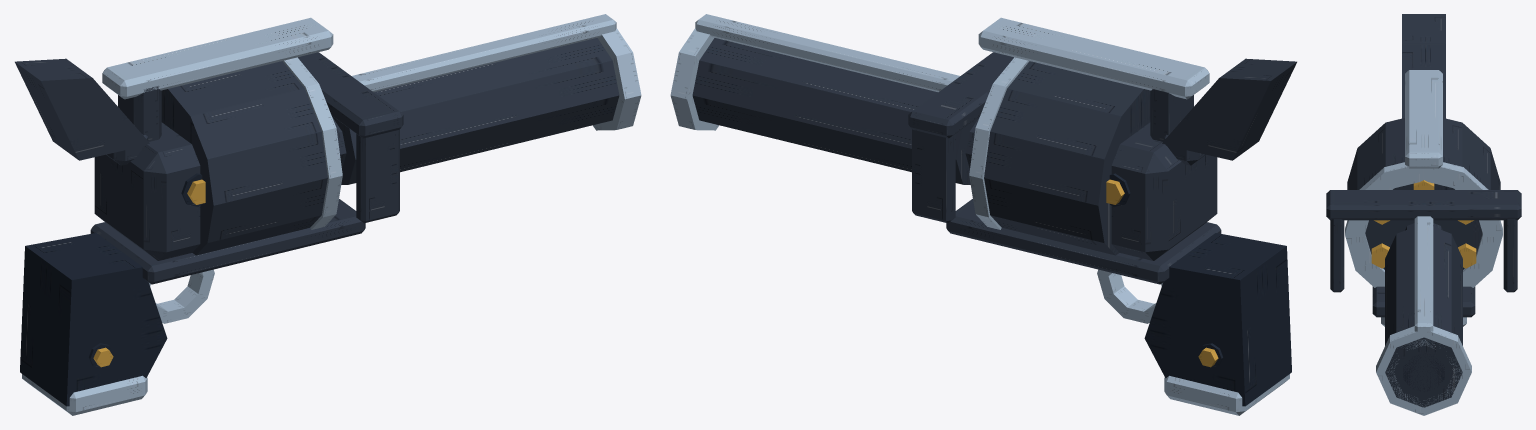
The model's file is peacemaker.glb.
The picture shows the model from 3 angles, left to right: view 1: azimuth 30°, elevation 25°; view 2: azimuth 150°, elevation 25°; view 3: azimuth 270°, elevation 25°; orthographic projection. The views are drawn at different scales.
Visible parts, largest first — view 1: body, barrel, core, grip; view 2: body, barrel, core, grip; view 3: body, barrel, core.
Boxes of the visible parts, x1,y1,x2,y2 form: body: [15, 17, 403, 323]; barrel: [332, 14, 641, 184]; core: [161, 57, 342, 255]; grip: [20, 233, 167, 415]; body: [908, 17, 1296, 323]; barrel: [670, 14, 979, 184]; core: [969, 57, 1150, 255]; grip: [1144, 233, 1291, 415]; body: [1326, 14, 1521, 317]; barrel: [1376, 216, 1471, 415]; core: [1345, 118, 1502, 287].
Bounding box in the file's own units: 0.563 × 0.307 × 0.196.
Materials: 4 (4 with a texture image).
